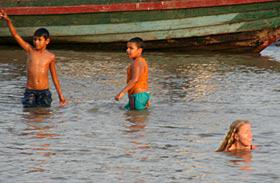human: (0, 9, 67, 110), (114, 34, 150, 114), (216, 120, 260, 154)
